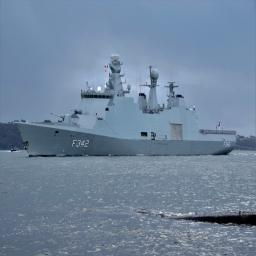Fragata: (14, 45, 237, 159)
